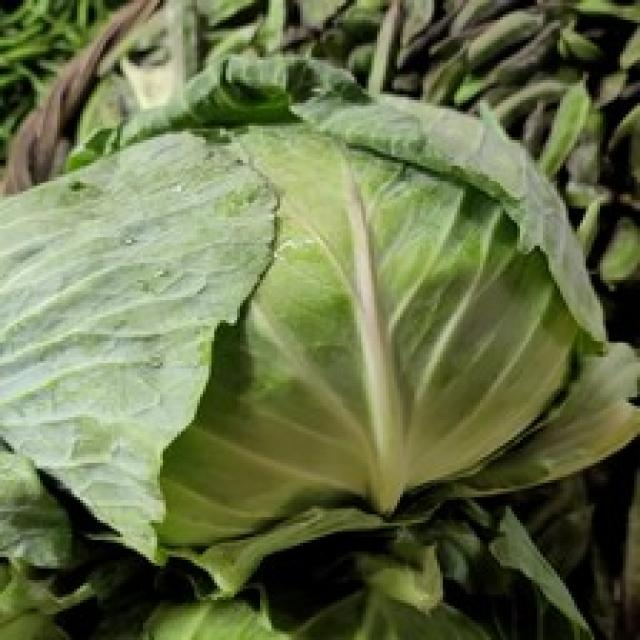Cabbage: (0, 100, 611, 568)
